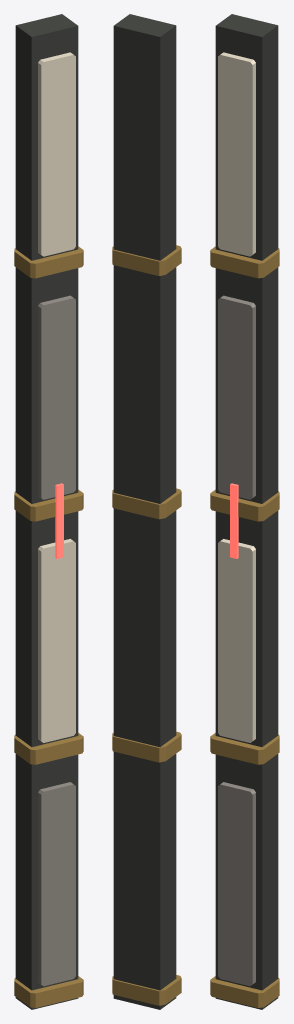
File: b3_rib.glb
The picture shows the model from 3 angles, left to right: view 1: azimuth 30°, elevation 25°; view 2: azimuth 150°, elevation 25°; view 3: azimuth 330°, elevation 25°; orthographic projection.
Parts seen in each view (by area): view 1: b3_rib; view 2: b3_rib; view 3: b3_rib.
Boxes of the visible parts, left/top/right/bottom form: b3_rib: left=14, top=14, right=83, bottom=1009; b3_rib: left=112, top=14, right=181, bottom=1009; b3_rib: left=210, top=14, right=279, bottom=1009.
Bounding box in the file's own units: 0.46 × 8 × 0.335.
